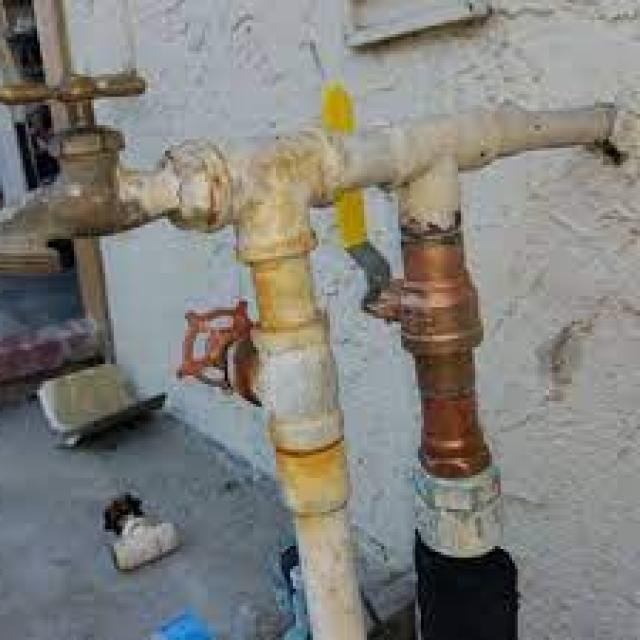Lever Handle Valve Threaded: (318, 88, 496, 473)
Wheel Handle Valve Threaded: (176, 254, 347, 516)
